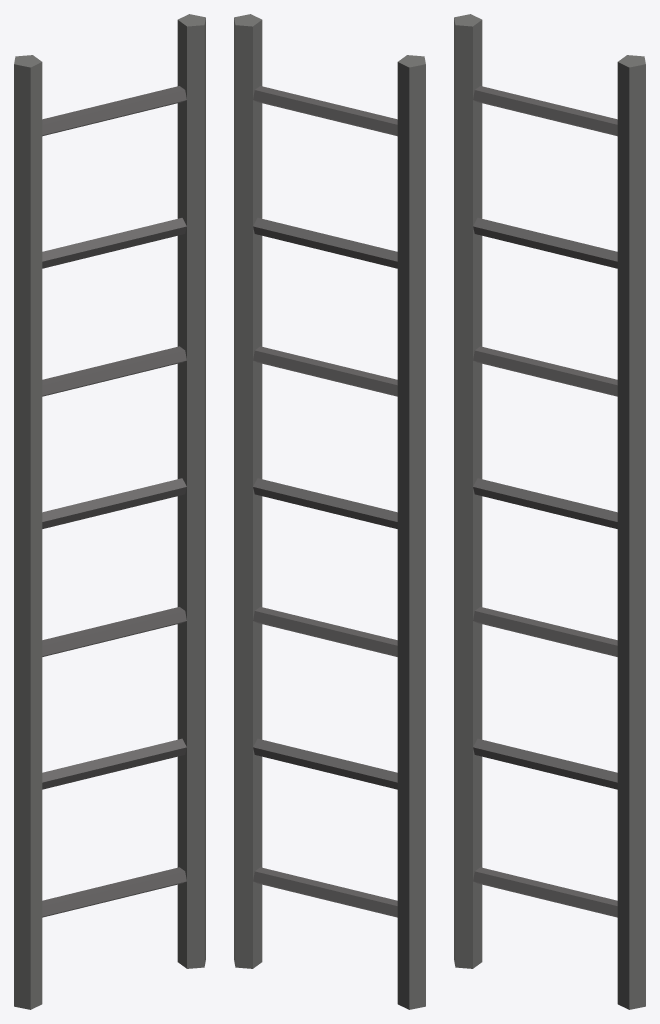
File: SM_Prop_Scaffold_Ladder_01.glb
3 views of the same model, side by side, from view 1: azimuth 30°, elevation 25°; view 2: azimuth 150°, elevation 25°; view 3: azimuth 330°, elevation 25° (orthographic).
Visible parts, largest first — view 1: SM_Prop_Scaffold_Ladder_01; view 2: SM_Prop_Scaffold_Ladder_01; view 3: SM_Prop_Scaffold_Ladder_01.
Part boxes in pixels (<box>): SM_Prop_Scaffold_Ladder_01: <box>14,14,205,1009</box>; SM_Prop_Scaffold_Ladder_01: <box>234,14,425,1009</box>; SM_Prop_Scaffold_Ladder_01: <box>454,14,645,1009</box>.
Bounding box in the file's own units: 0.5327 × 2.5 × 0.0732.
1 material, 1 textured.
